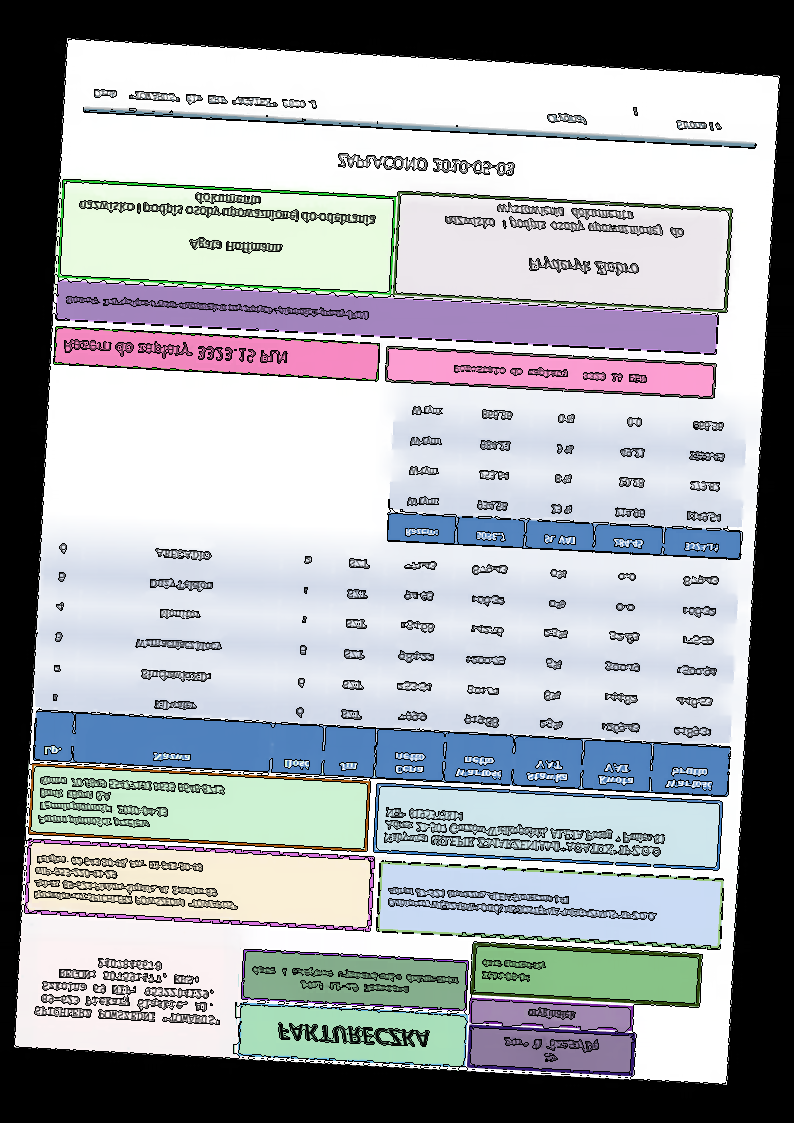Table: (32, 527, 739, 797), (385, 390, 749, 561)
TextBox: (382, 806, 669, 860), (32, 953, 224, 1027), (78, 186, 377, 229), (31, 852, 242, 912), (35, 773, 226, 836), (384, 885, 660, 924), (443, 199, 686, 240), (62, 292, 371, 323), (248, 964, 460, 1000), (62, 334, 288, 366), (546, 102, 725, 133), (92, 87, 318, 111), (336, 151, 517, 179), (452, 361, 648, 385), (276, 1021, 430, 1049), (501, 1033, 603, 1067), (526, 253, 641, 280), (188, 236, 283, 256), (480, 957, 547, 984), (526, 1005, 577, 1023)
